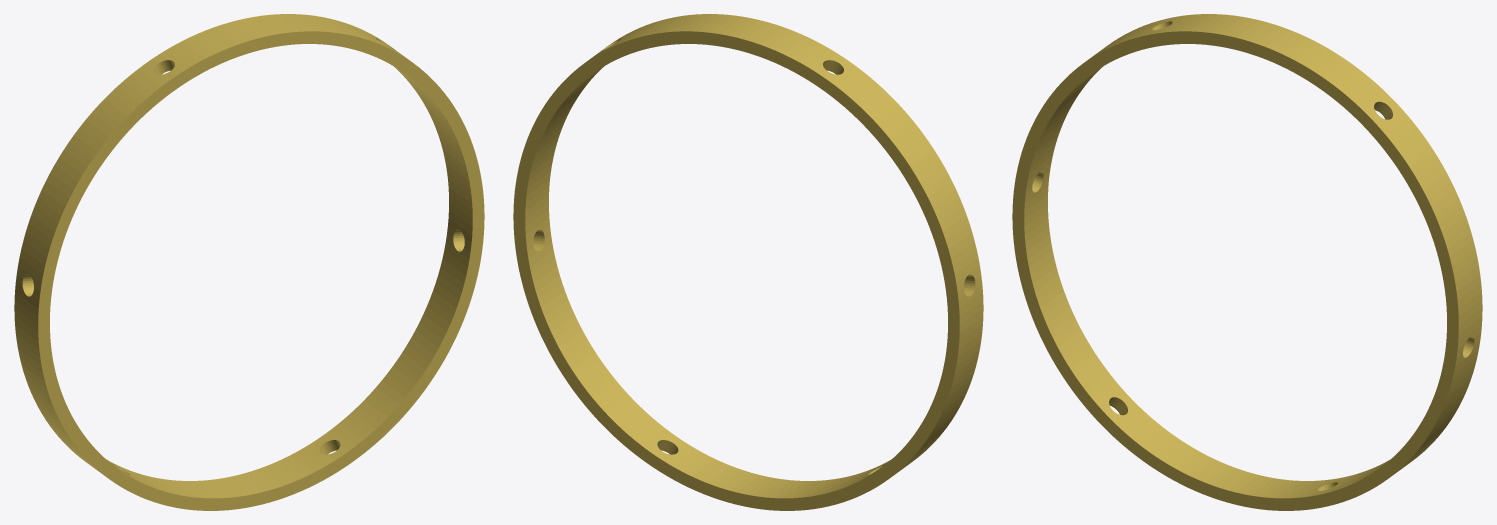
Rendered from spacer_top.glb.
3 renders of one model, left to right at view 1: azimuth 30°, elevation 25°; view 2: azimuth 150°, elevation 25°; view 3: azimuth 330°, elevation 25°, orthographic.
Parts seen in each view (by area): view 1: world; view 2: world; view 3: world.
Boxes of the visible parts, box(x1,y1,x2,y2) form: world: box(14, 14, 484, 510); world: box(513, 14, 983, 510); world: box(1012, 14, 1482, 510).
Size of the model in its own units: 152 by 152 by 14.
